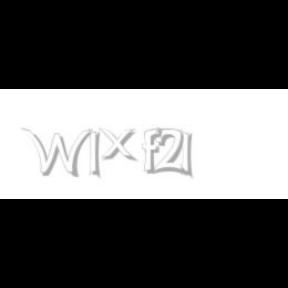2: (151, 128, 185, 176)
I: (180, 128, 194, 180)
W: (20, 128, 92, 178)
f: (142, 128, 166, 174)
l: (88, 128, 104, 180)
x: (99, 128, 141, 162)
